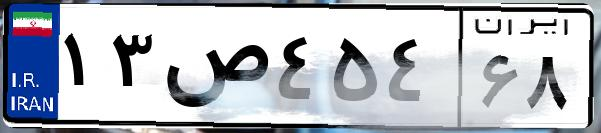1: (57, 26, 110, 100)
3: (110, 28, 158, 98)
4: (270, 28, 330, 110), (385, 28, 445, 110)
5: (330, 28, 385, 110)
6: (475, 38, 525, 113)
8: (525, 38, 570, 115)
ص: (158, 20, 270, 120)
